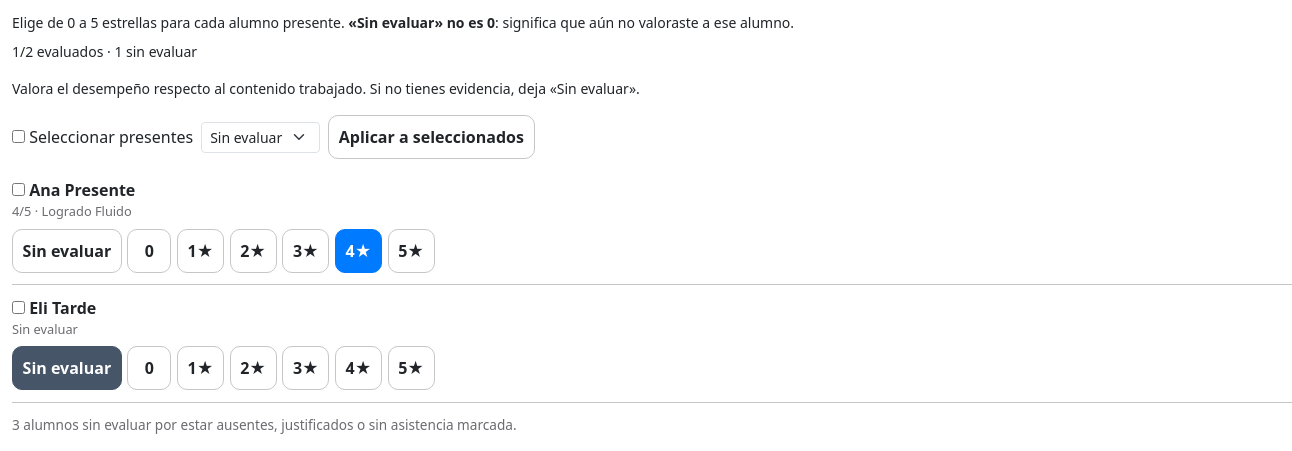
PresentRatingsPanel › recovers saved ratings and shows "Sin evaluar" distinct from zero
This screenshot has width=1292, height=451.
Click the radio button labelled "0" below "Eli Tarde" at x=149, y=368, box [127,346,171,390]
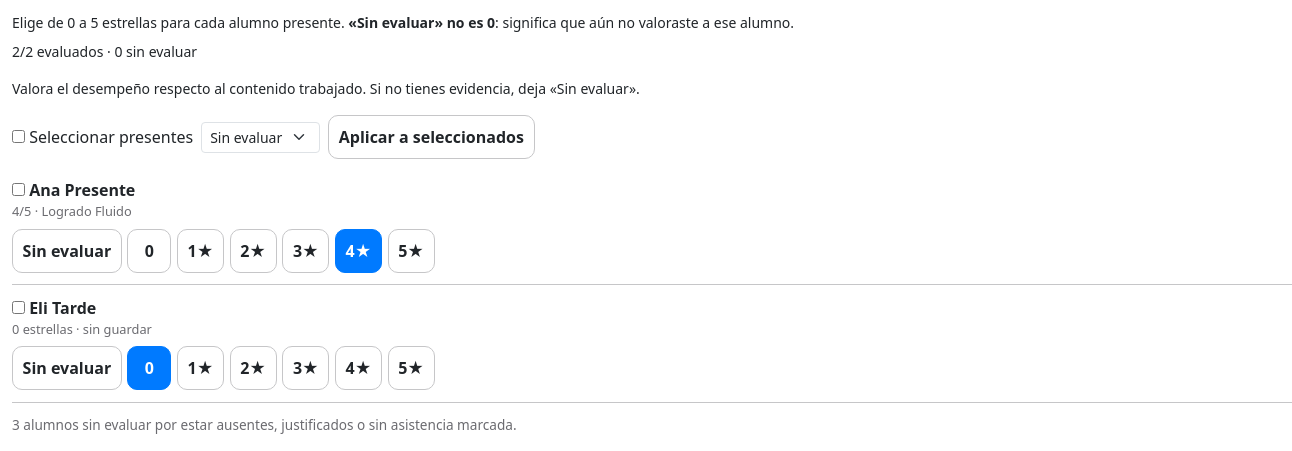
Expected: the message "0 estrellas · sin guardar" is shown, [12,320,152,338]
Click the radio button labelled "Sin evaluar" below "0 estrellas · sin guardar" at x=67, y=368, box [12,346,122,390]
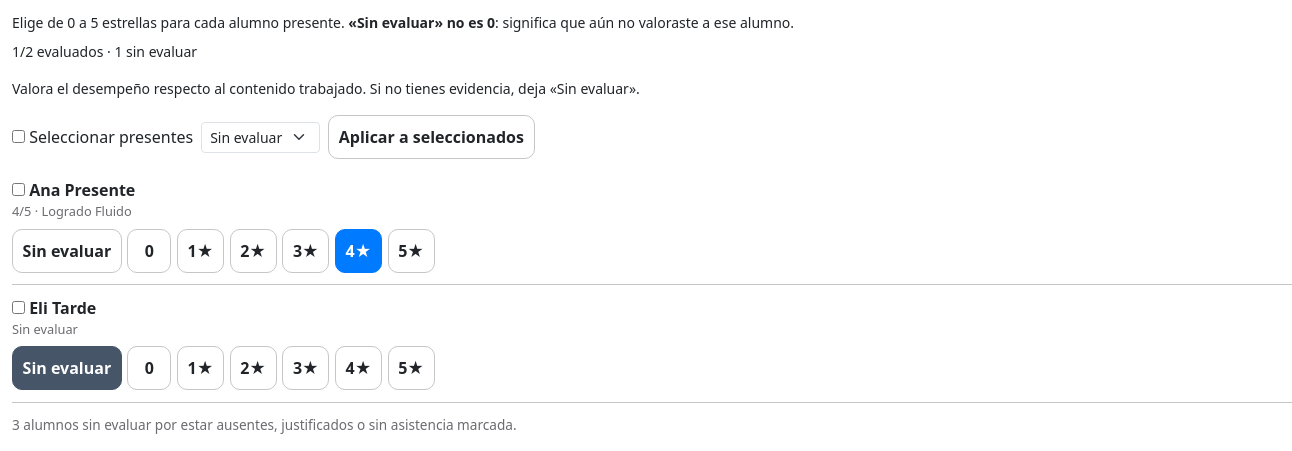
Expected: the message "Sin evaluar" is shown, [12,320,78,338]
